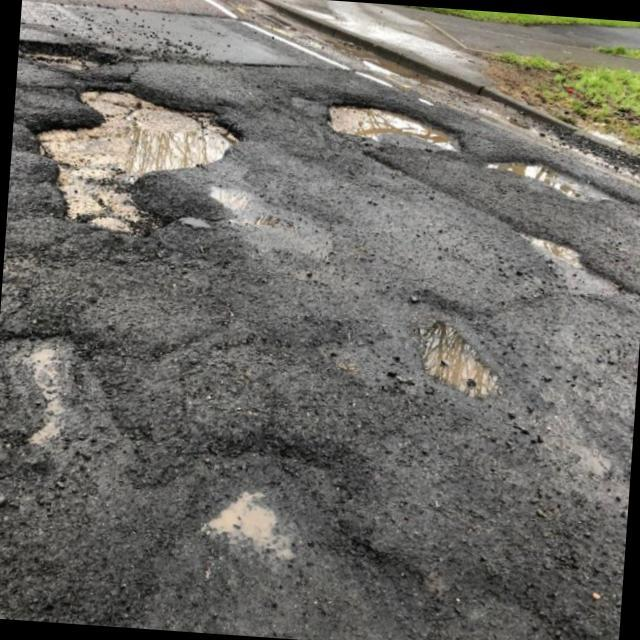Pothole: (14, 80, 288, 270), (152, 426, 376, 598), (373, 298, 575, 436), (297, 85, 534, 201), (0, 316, 152, 481), (467, 146, 640, 251), (531, 210, 640, 327), (17, 43, 156, 81)
